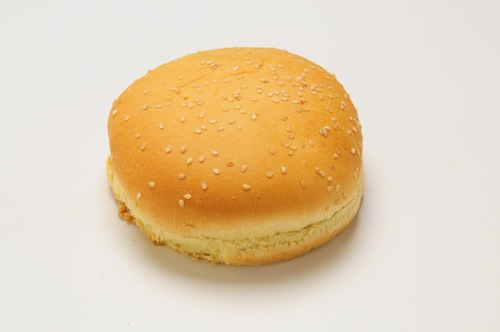hamburger_buns: (90, 45, 402, 274)
